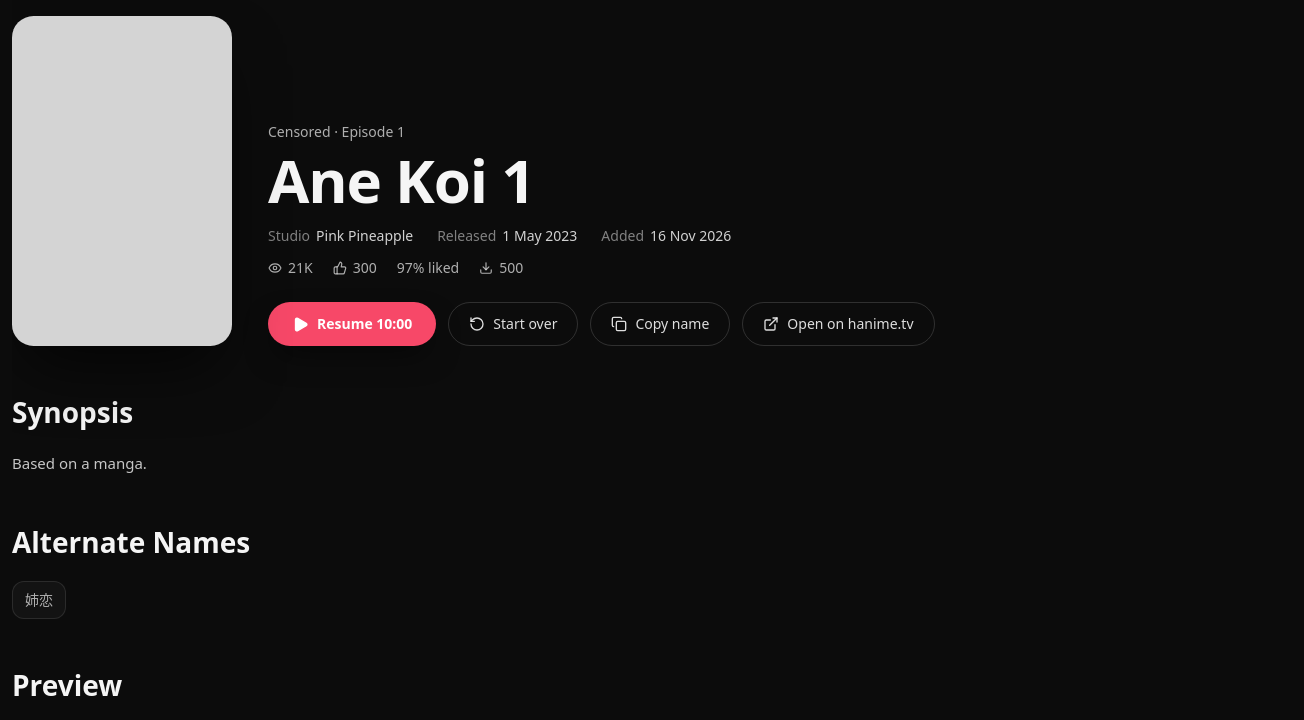
Test: Hentai library › offers Resume and Start over on a title you're part way through
Expected: the button "Resume 10:00" is shown, [268,302,436,346]
What coordinates should you click on to do the following:
click the button "Start over"
I would click on:
 (513, 324)
Its box is [448,302,578,346].
(page scrolled)
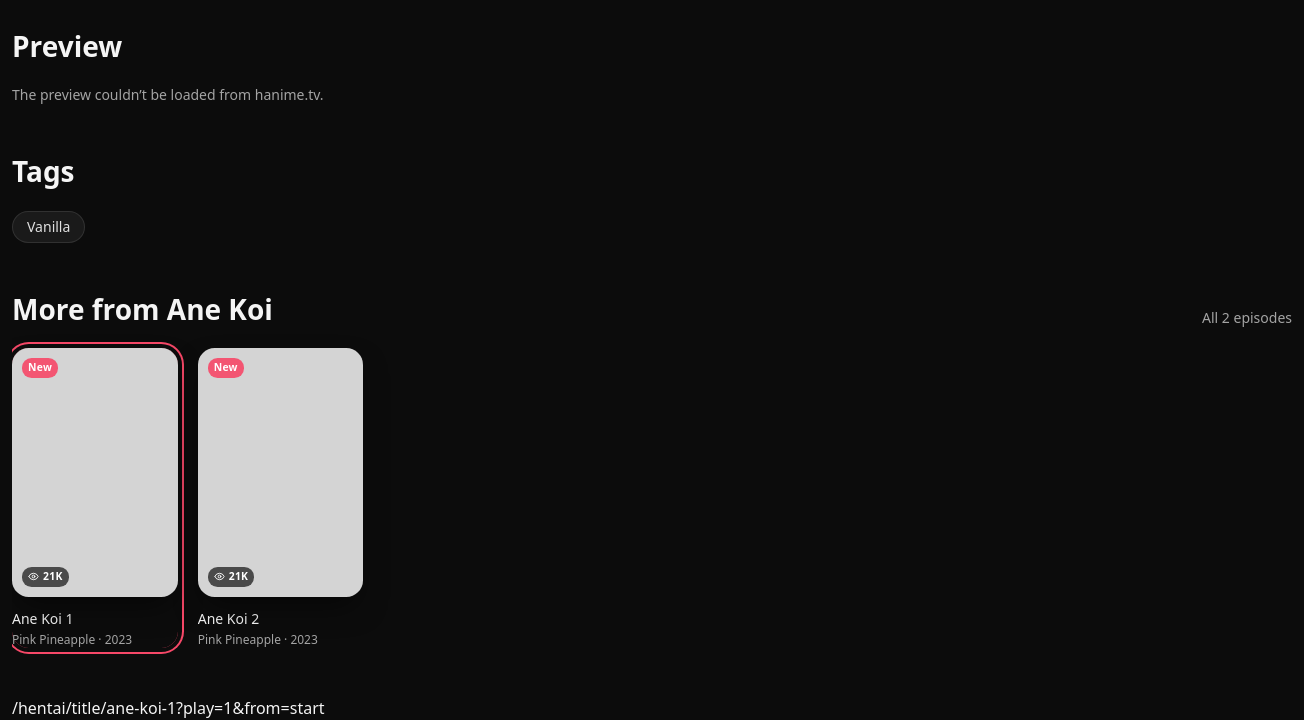
Expected: the text with test id "where" reads "/hentai/title/ane-koi-1?play=1&from=start", [12,697,324,719]
